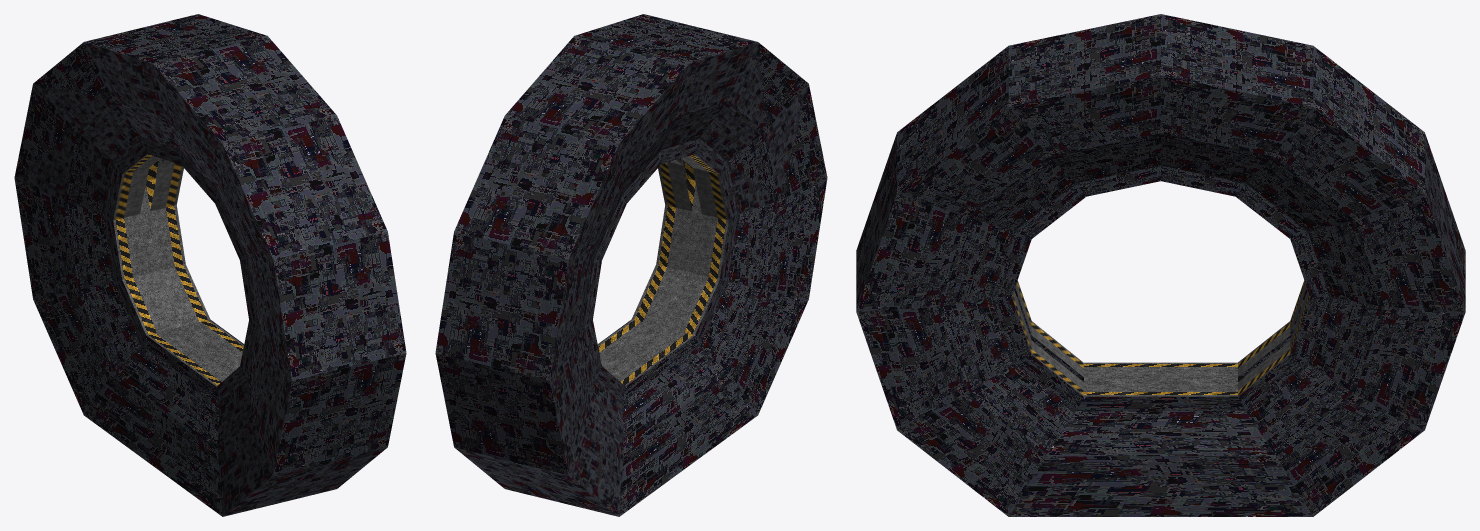
Rendered from Cylinder_red_Frame_door-col.glb.
3 views of the same model, side by side, from view 1: azimuth 30°, elevation 25°; view 2: azimuth 150°, elevation 25°; view 3: azimuth 270°, elevation 25° (orthographic). The views are drawn at different scales.
Visible parts, largest first — view 1: Cylinder_red_Frame_door-col; view 2: Cylinder_red_Frame_door-col; view 3: Cylinder_red_Frame_door-col.
Part boxes in pixels (x1,y1,x2,y2): Cylinder_red_Frame_door-col: (14, 14, 406, 516); Cylinder_red_Frame_door-col: (435, 14, 827, 516); Cylinder_red_Frame_door-col: (856, 14, 1465, 516).
Size of the model in its own units: 1.8 by 6.05 by 7.56.
1 material, 1 textured.
